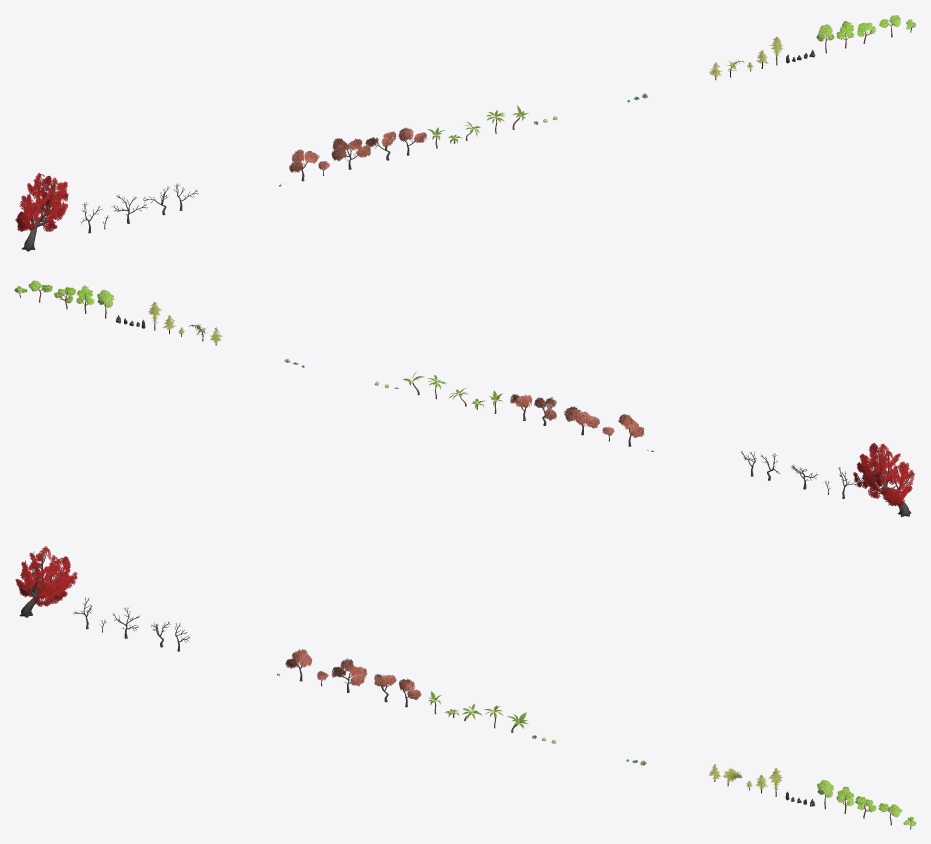
The model's file is nature.glb.
The picture shows the model from 3 angles, top to bottom: view 1: azimuth 30°, elevation 25°; view 2: azimuth 150°, elevation 25°; view 3: azimuth 330°, elevation 25°; orthographic projection.
Visible parts, largest first — view 1: TwistedTree_1, MapleTree_3; view 2: TwistedTree_1; view 3: TwistedTree_1, MapleTree_3.
Part boxes in pixels (x1,y1,x2,y2): TwistedTree_1: (15, 172, 68, 251); MapleTree_3: (331, 138, 370, 169); TwistedTree_1: (853, 443, 914, 516); TwistedTree_1: (15, 546, 77, 617); MapleTree_3: (331, 658, 367, 692).
Size of the model in its own units: 225 by 16.8 by 11.55.
13 materials, 13 textured.
